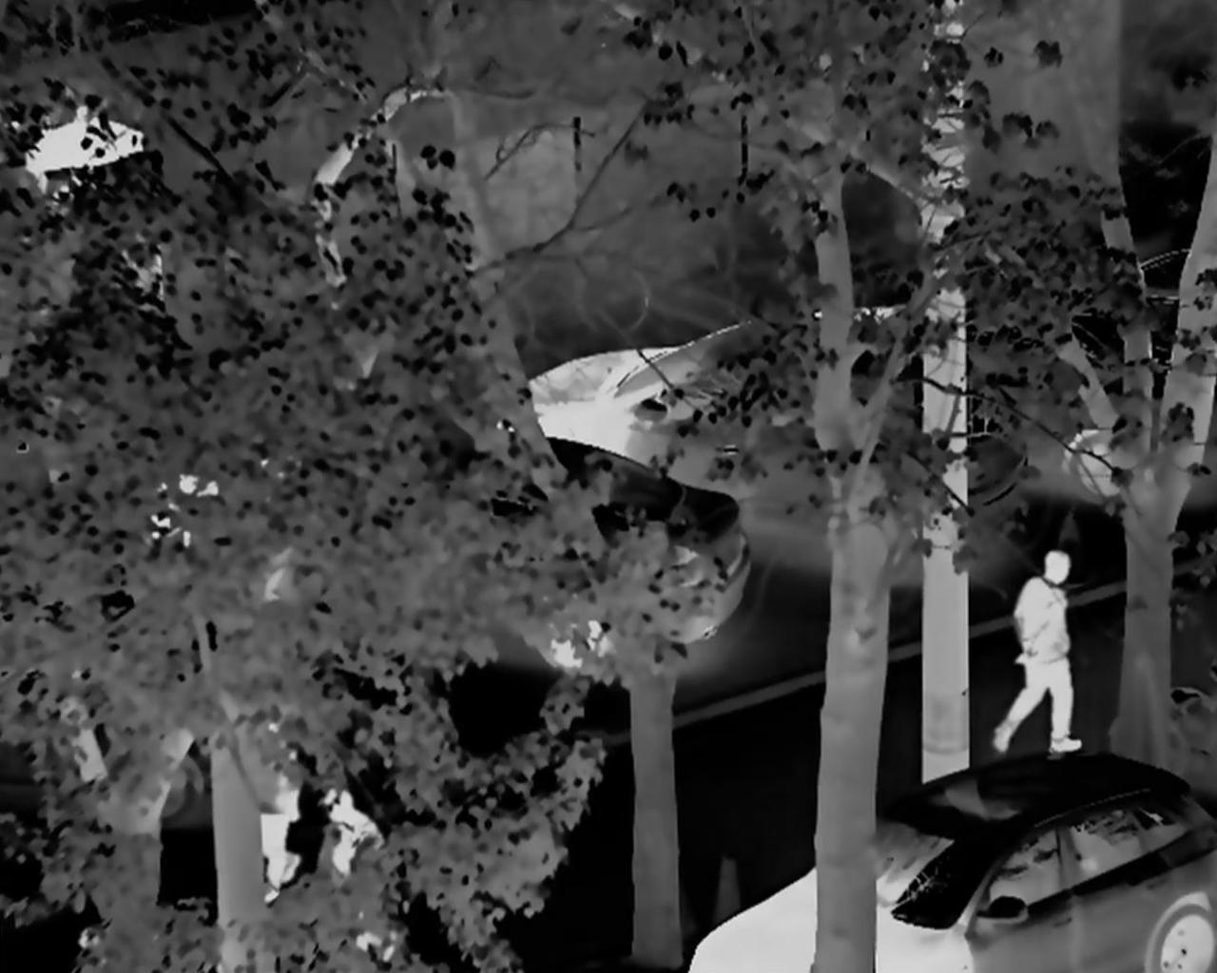person: (989, 539, 1088, 761), (315, 792, 401, 973), (246, 717, 315, 907)
